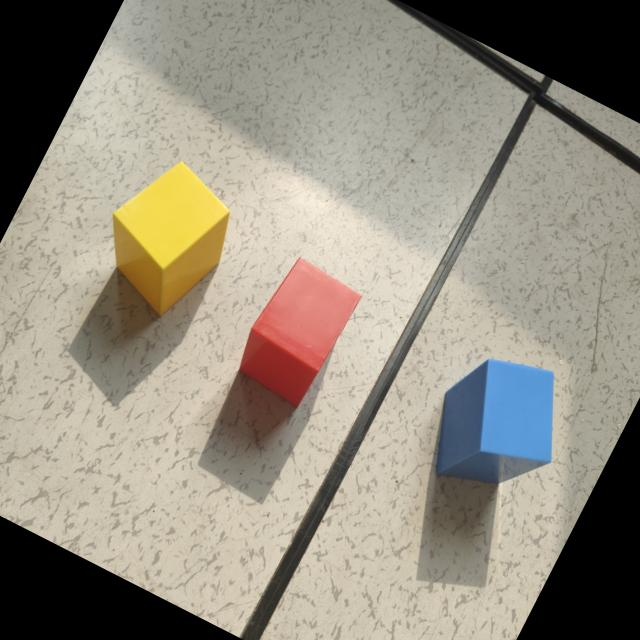blue: (433, 360, 555, 489)
red: (239, 260, 361, 409)
yellow: (111, 163, 229, 317)
